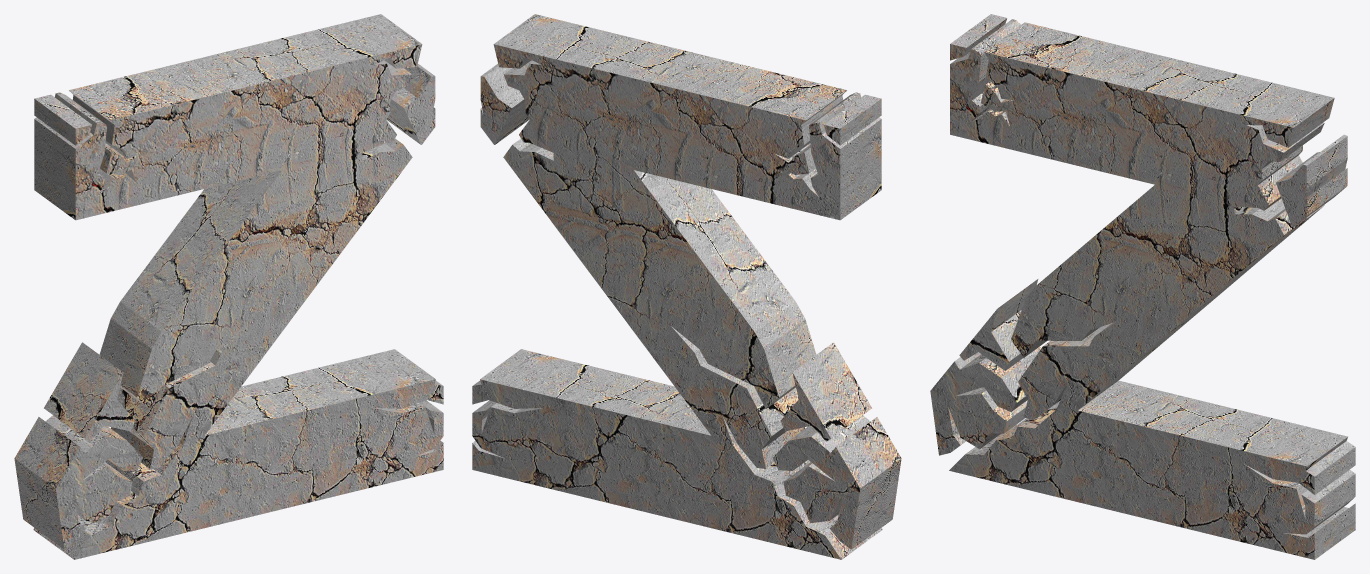
The picture shows the model from 3 angles, left to right: view 1: azimuth 30°, elevation 25°; view 2: azimuth 150°, elevation 25°; view 3: azimuth 330°, elevation 25°; orthographic projection.
Parts seen in each view (by area): view 1: Z; view 2: Z; view 3: Z.
Part boxes in pixels (left/top/right/bottom): Z: left=14, top=14, right=443, bottom=559; Z: left=472, top=14, right=901, bottom=559; Z: left=930, top=14, right=1355, bottom=559.
Size of the model in its own units: 81.36 by 86.36 by 15.
Materials: 1 (1 with a texture image).
